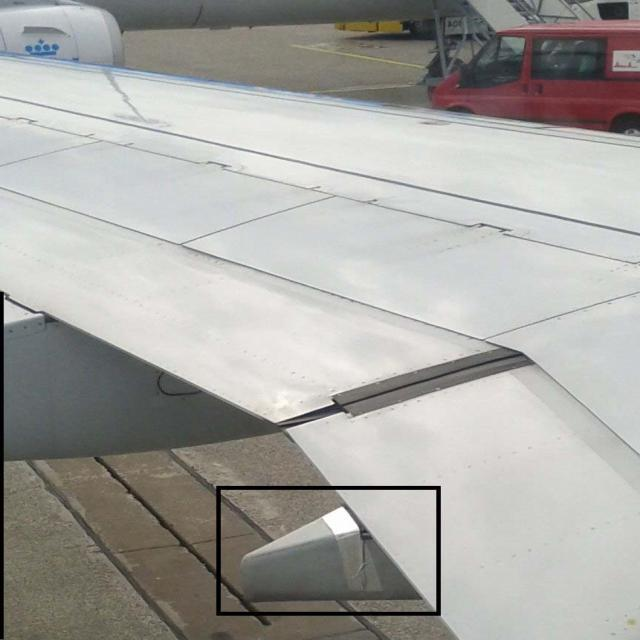crack: (355, 545, 381, 576)
